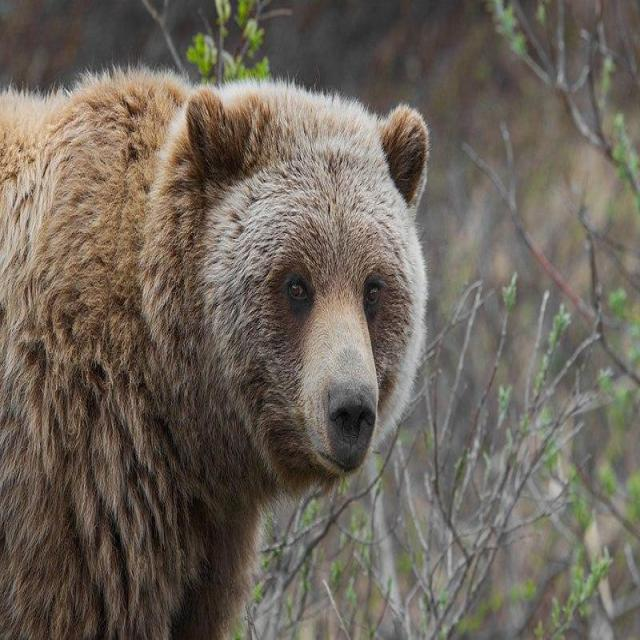Bear: (0, 71, 430, 640)
